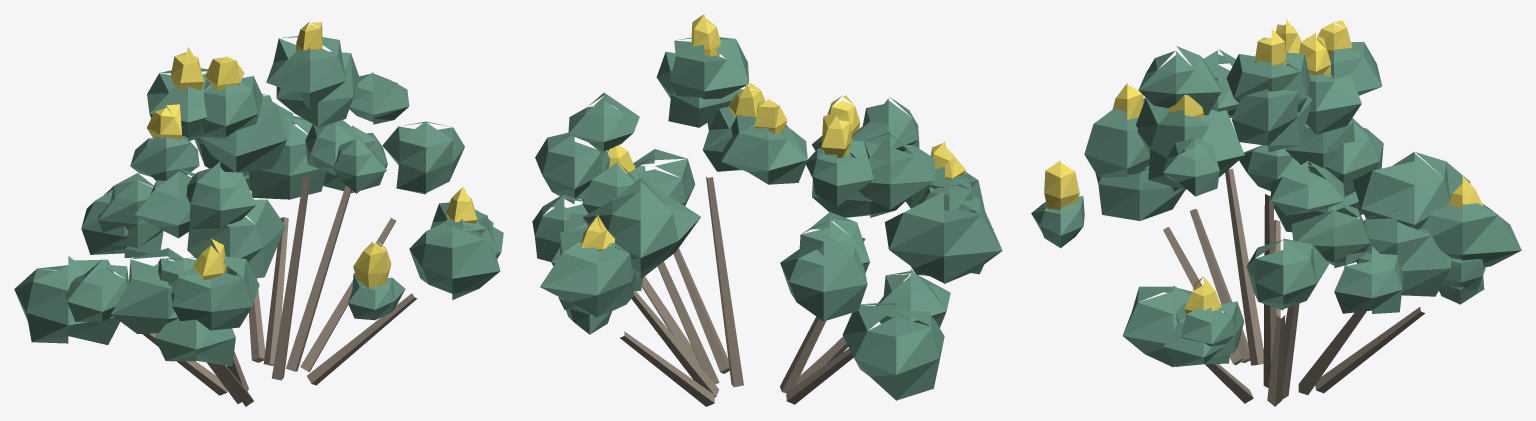
File: GorseBush.glb
3 views of the same model, side by side, from view 1: azimuth 30°, elevation 25°; view 2: azimuth 150°, elevation 25°; view 3: azimuth 270°, elevation 25° (orthographic). The views are drawn at different scales.
Visible parts, largest first — view 1: gorse-bush; view 2: gorse-bush; view 3: gorse-bush.
Part boxes in pixels (left/top/right/bottom): gorse-bush: left=14, top=21, right=503, bottom=406; gorse-bush: left=532, top=14, right=1002, bottom=406; gorse-bush: left=1031, top=19, right=1521, bottom=406.
Size of the model in its own units: 2.36 by 1.94 by 2.28.
